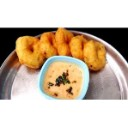vada: (15, 34, 43, 65), (83, 40, 107, 71), (56, 27, 76, 56), (39, 30, 60, 57), (70, 35, 88, 58)
